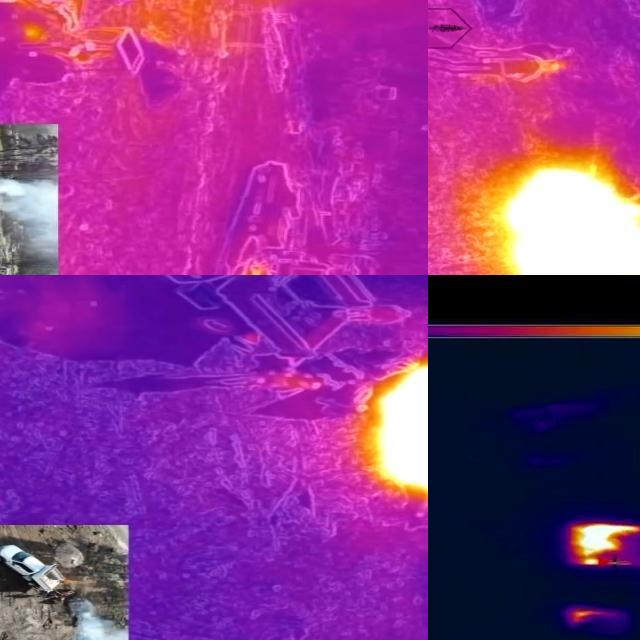fire: (491, 166, 640, 276), (366, 359, 429, 502), (567, 522, 640, 568), (567, 610, 621, 627)
